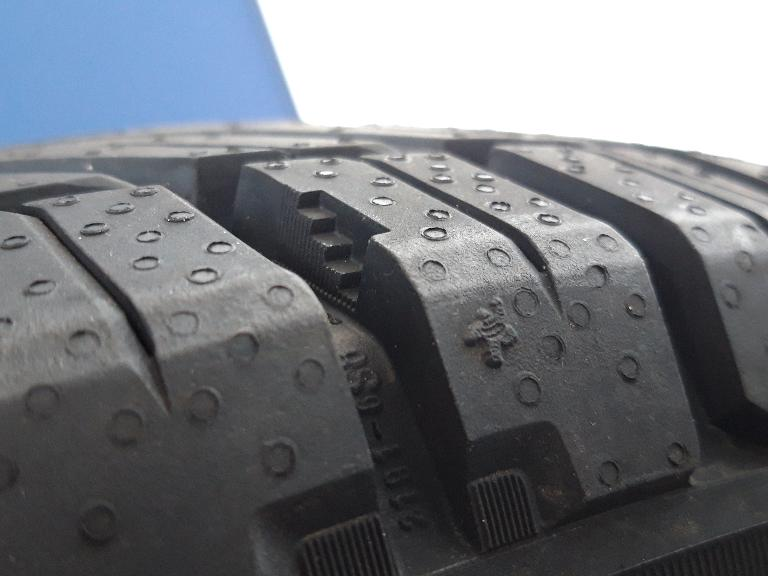temoin:100: (278, 183, 394, 317)
